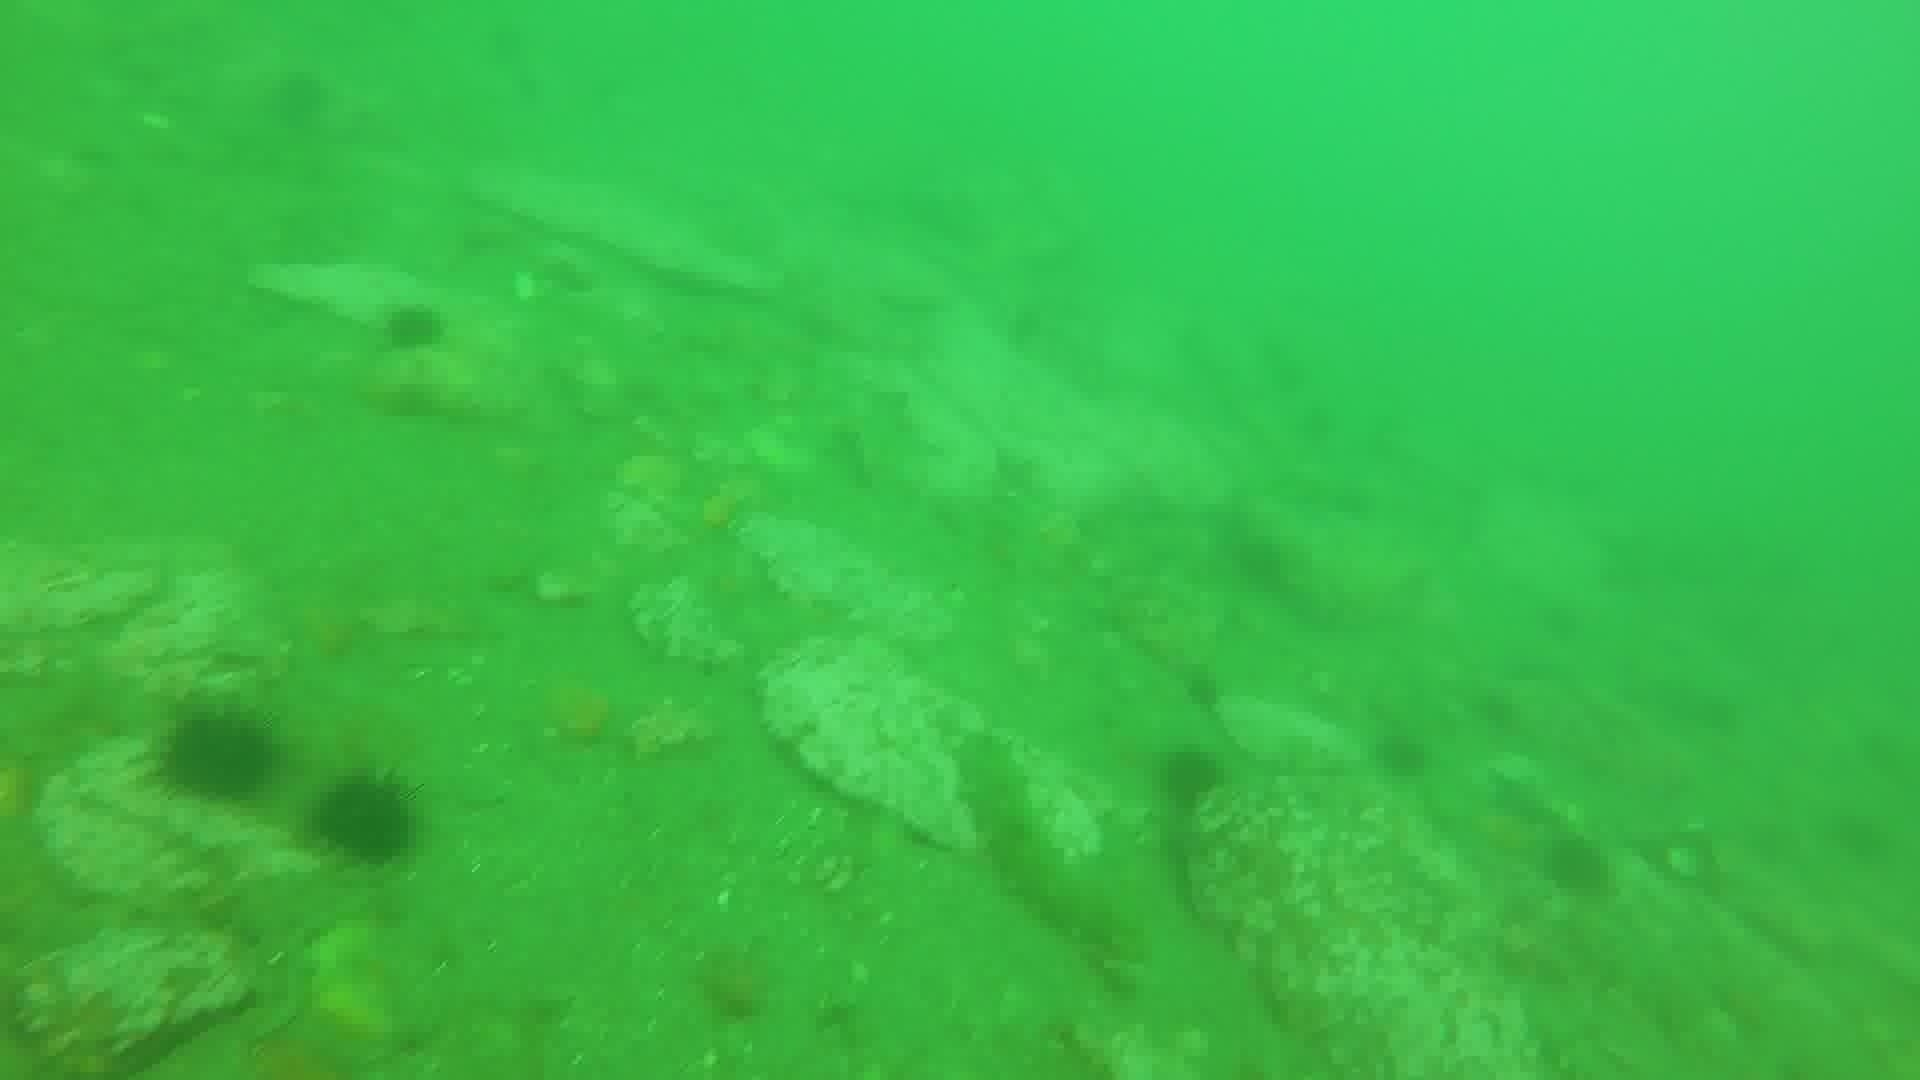echinus: (149, 705, 281, 808), (309, 767, 423, 870), (1538, 831, 1615, 901), (1151, 742, 1226, 814), (262, 66, 335, 133), (377, 299, 450, 357), (1367, 725, 1435, 785), (1178, 665, 1229, 715)
holothurian: (949, 729, 1139, 965)
starfish: (1439, 787, 1555, 882), (247, 1001, 389, 1073)
